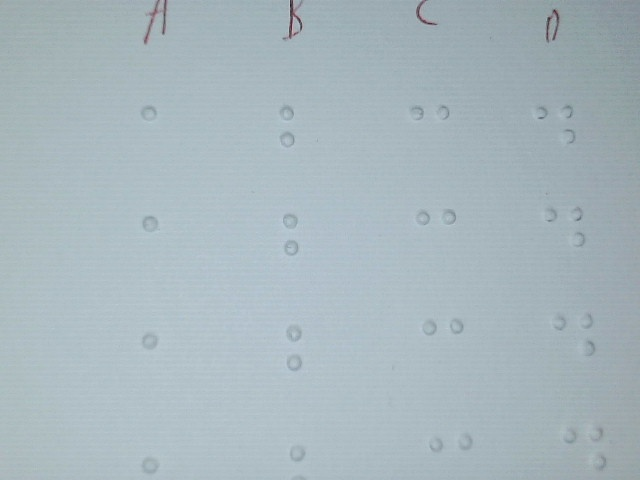A: (131, 94, 192, 188), (133, 203, 194, 297), (132, 320, 193, 414)
B: (271, 95, 330, 180), (274, 202, 333, 287), (278, 313, 337, 398)
C: (403, 96, 457, 177), (410, 198, 464, 279), (416, 308, 470, 389)
